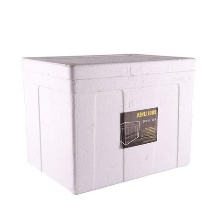foam_box: (16, 44, 203, 199)
